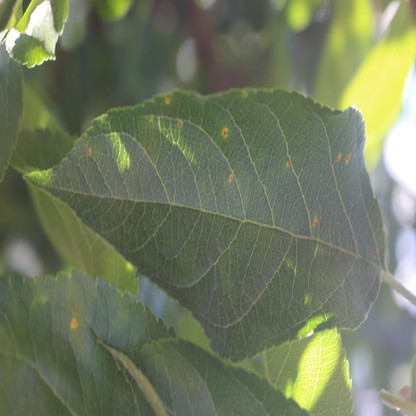rust: (336, 152, 351, 165), (221, 127, 228, 139), (228, 171, 235, 183), (71, 318, 78, 327), (147, 114, 154, 123), (313, 217, 318, 228), (86, 147, 92, 156), (177, 119, 183, 128), (242, 90, 248, 99), (286, 160, 291, 169), (164, 97, 170, 104)
